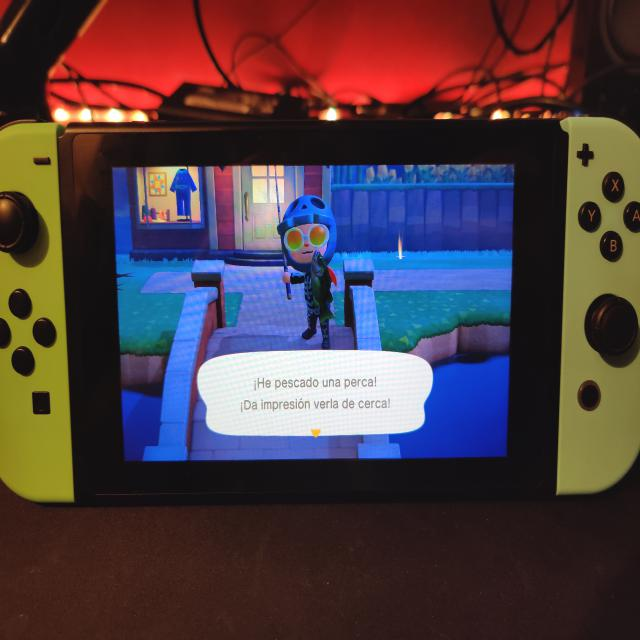text_bubble: (197, 347, 437, 441)
